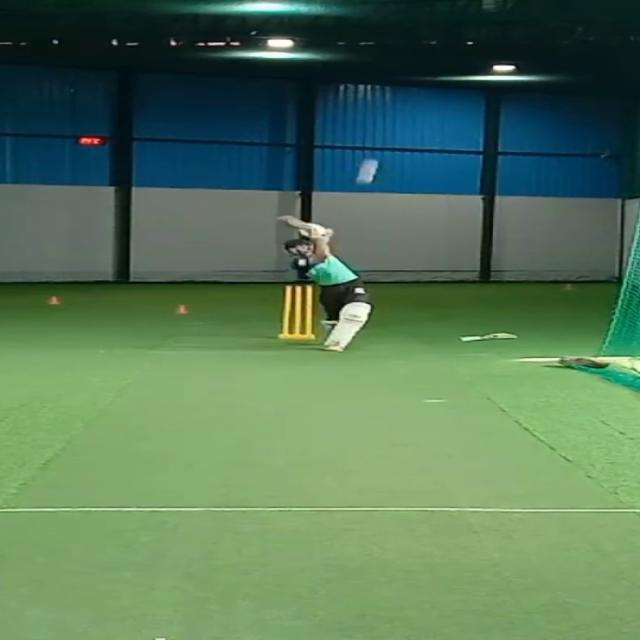ball: (344, 169, 378, 189)
stump: (274, 282, 316, 339)
